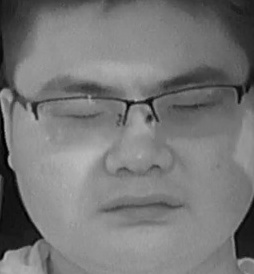blink: (59, 109, 99, 123), (172, 100, 213, 113)
glass: (36, 93, 129, 145), (148, 84, 239, 135)
mouth: (103, 191, 180, 226)
